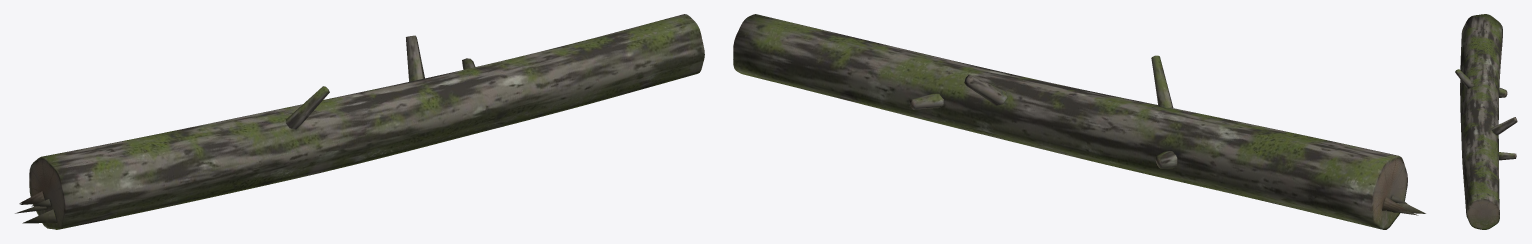
Rendered from kmen_1.glb.
3 renders of one model, left to right at view 1: azimuth 30°, elevation 25°; view 2: azimuth 150°, elevation 25°; view 3: azimuth 270°, elevation 25°, orthographic. The views are drawn at different scales.
Parts seen in each view (by area): view 1: kmen_1; view 2: kmen_1; view 3: kmen_1.
Part boxes in pixels (left/top/right/bottom): kmen_1: left=15, top=14, right=704, bottom=229; kmen_1: left=733, top=14, right=1425, bottom=229; kmen_1: left=1455, top=14, right=1517, bottom=229.
Bounding box in the file's own units: 4.72 × 0.6696 × 0.6676.
1 material, 1 textured.
